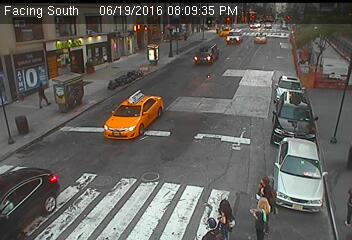neg: (81, 54, 95, 73), (301, 48, 313, 63), (123, 37, 133, 50), (148, 28, 157, 40), (172, 26, 179, 35)
pos: (250, 198, 280, 237), (30, 76, 53, 106), (216, 197, 236, 225), (256, 172, 275, 197), (202, 215, 219, 237)
